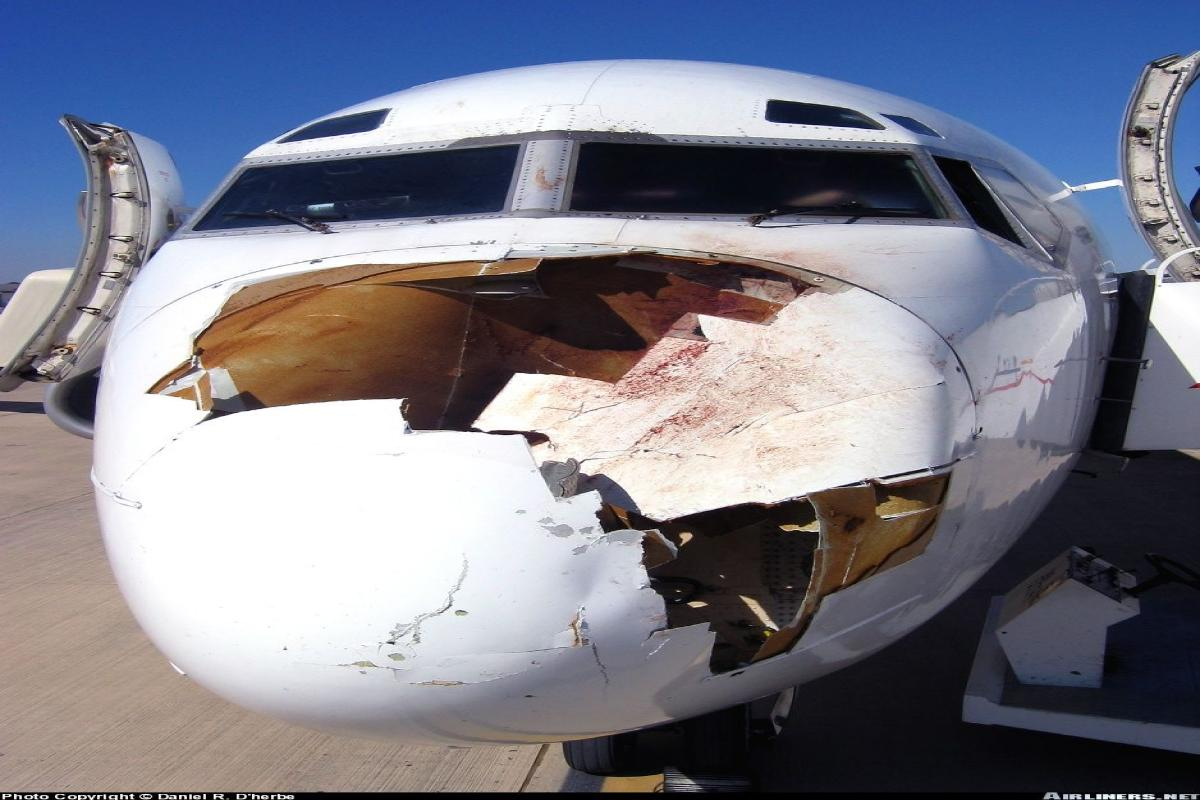Fuselage_damage: (136, 251, 963, 681), (342, 555, 619, 697)
